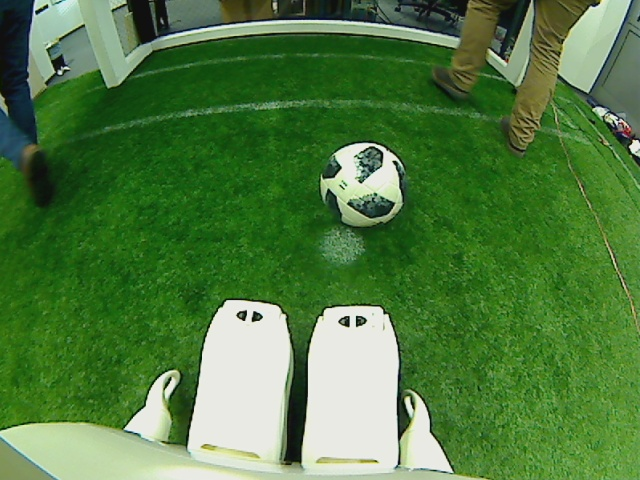ball: (317, 138, 409, 231)
